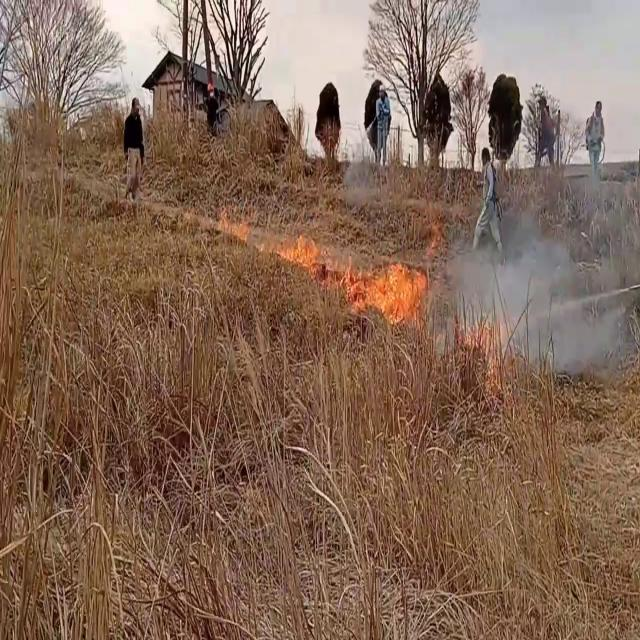Fire: (282, 225, 379, 309), (362, 239, 436, 341)
Smoke: (446, 214, 632, 381)
